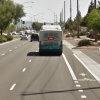Bus: (37, 20, 65, 57)
